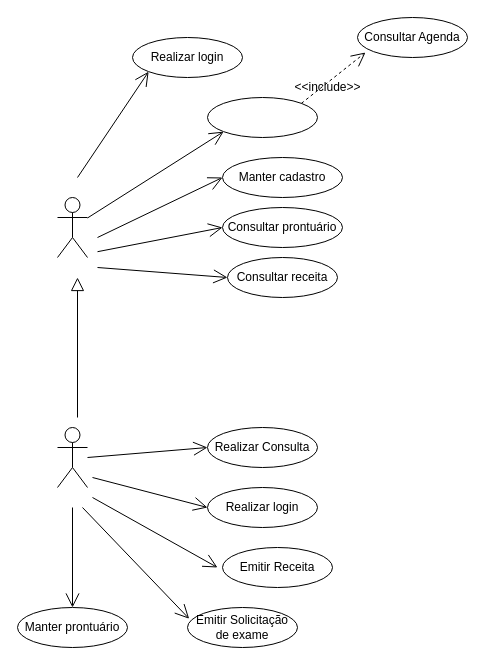
Image size: 485x665. Some labels were removed from this diagram. Each missing label, with the box of its shape:
Marcar Consulta: (206, 96, 318, 138)
Médico: (56, 426, 88, 488)
Paciente: (56, 196, 88, 258)
